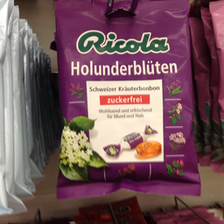candy: (55, 1, 203, 199)
